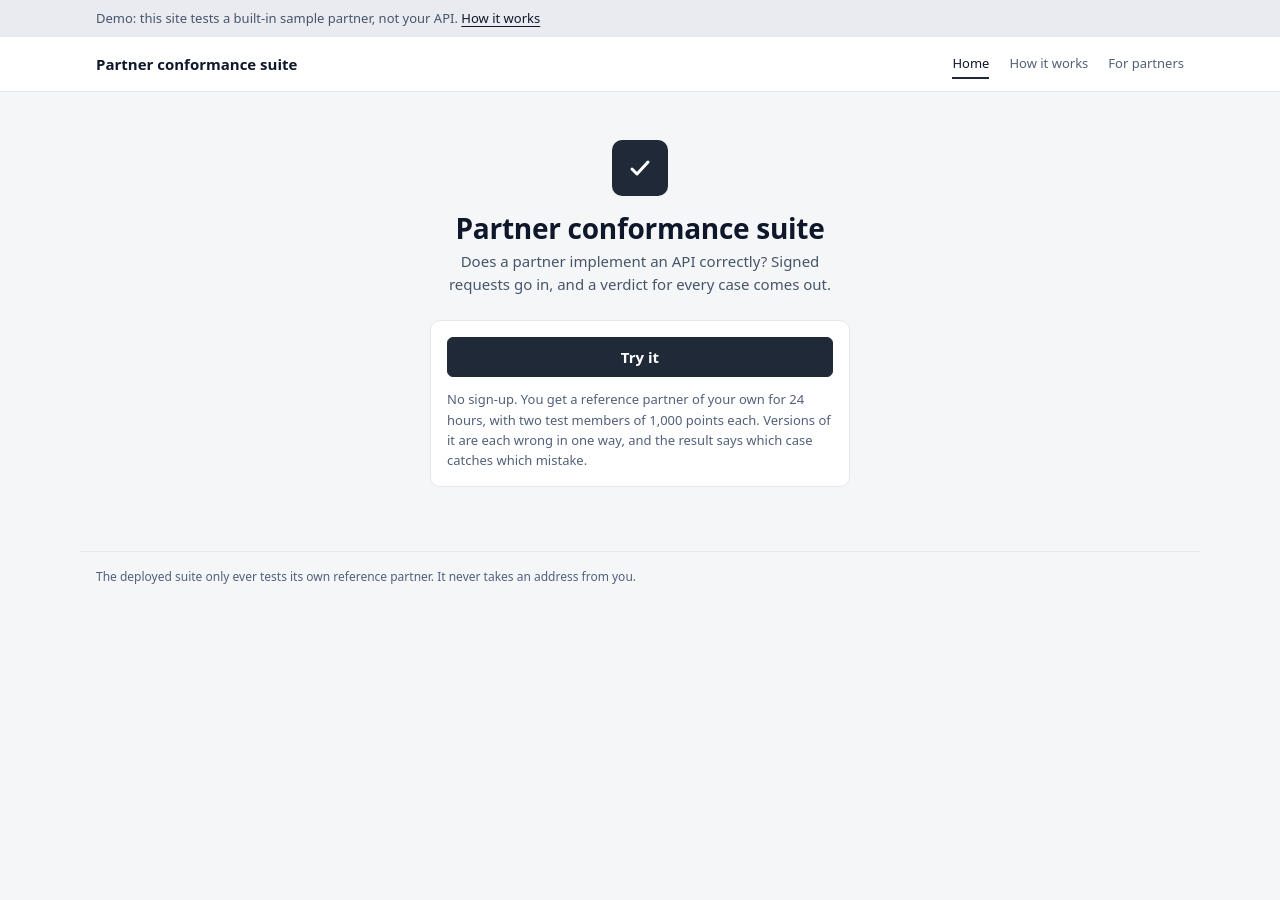
Scenario: the page between its answers › says why the secret could not be shown, in its own words
This screenshot has width=1280, height=900.
What coordinates should you click on to do the following:
click the button "Try it"
I would click on:
 (640, 357)
Its box is [447,337,833,377].
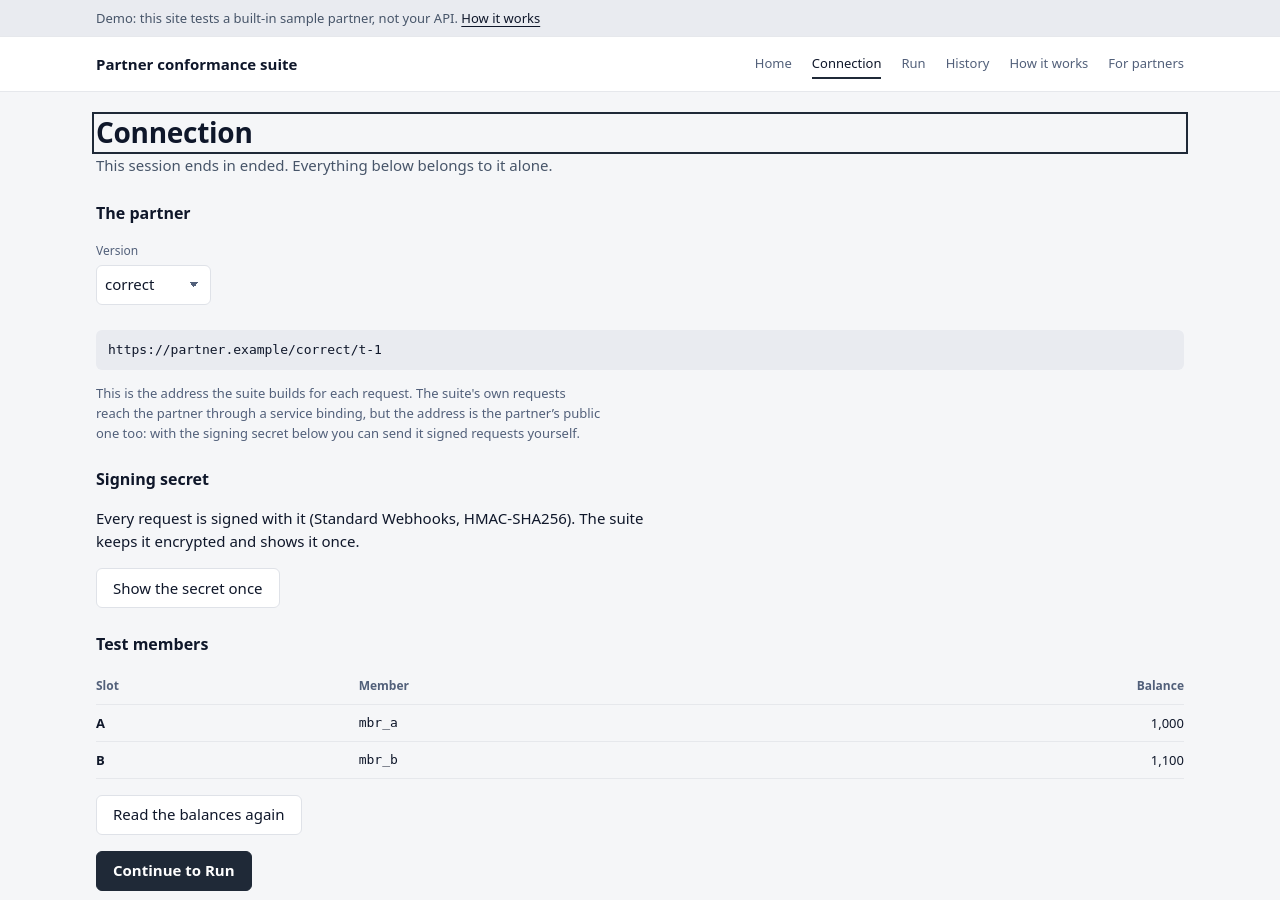
Expected: the heading "Connection" is shown, [96,113,252,151]
What coordinates should you click on to do the following:
click the button "Show the secret once"
I would click on:
 (188, 588)
Its box is [96,568,280,608].
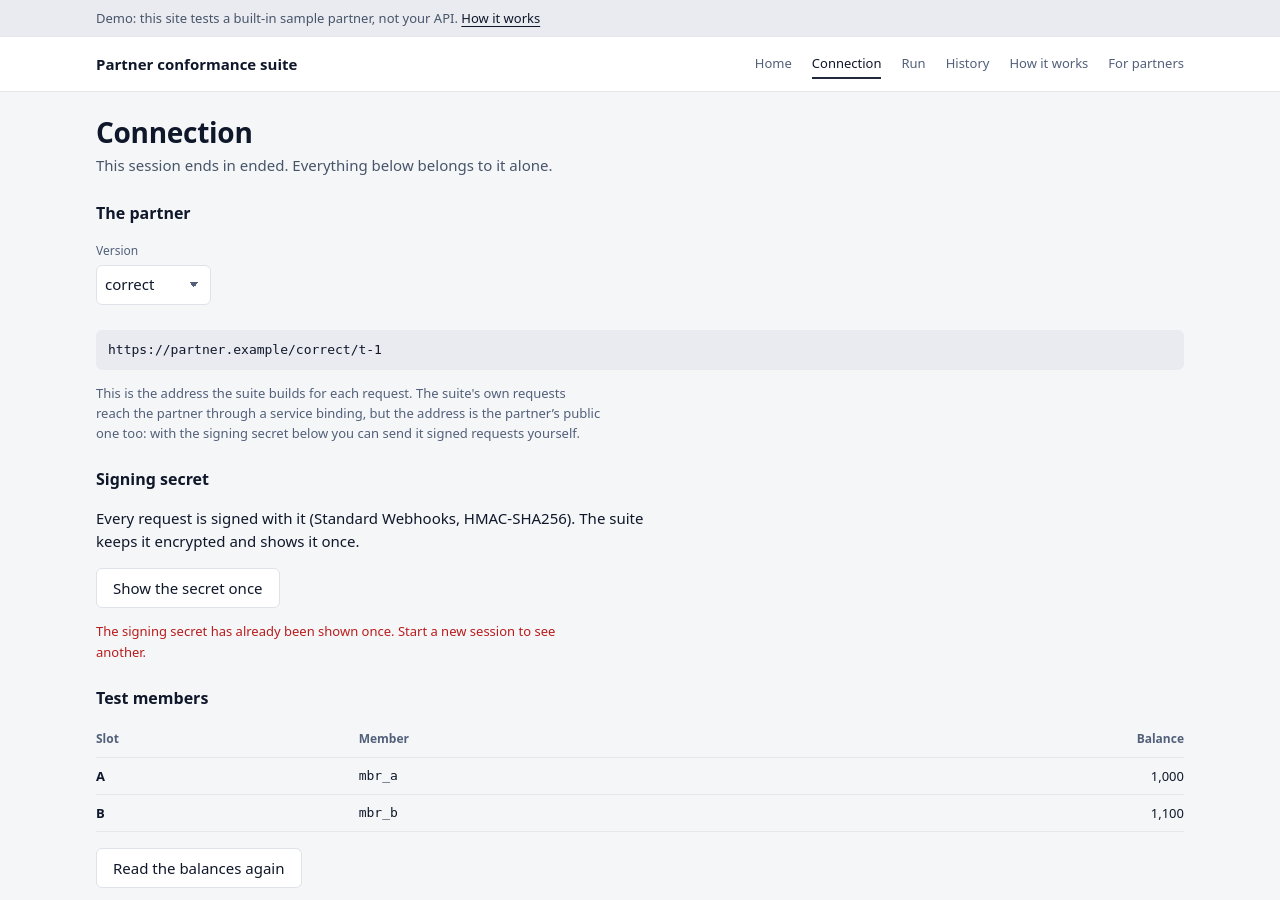
Expected: the message shows "The signing secret has already been shown once. Start a new session to see another.", [96,622,555,660]
